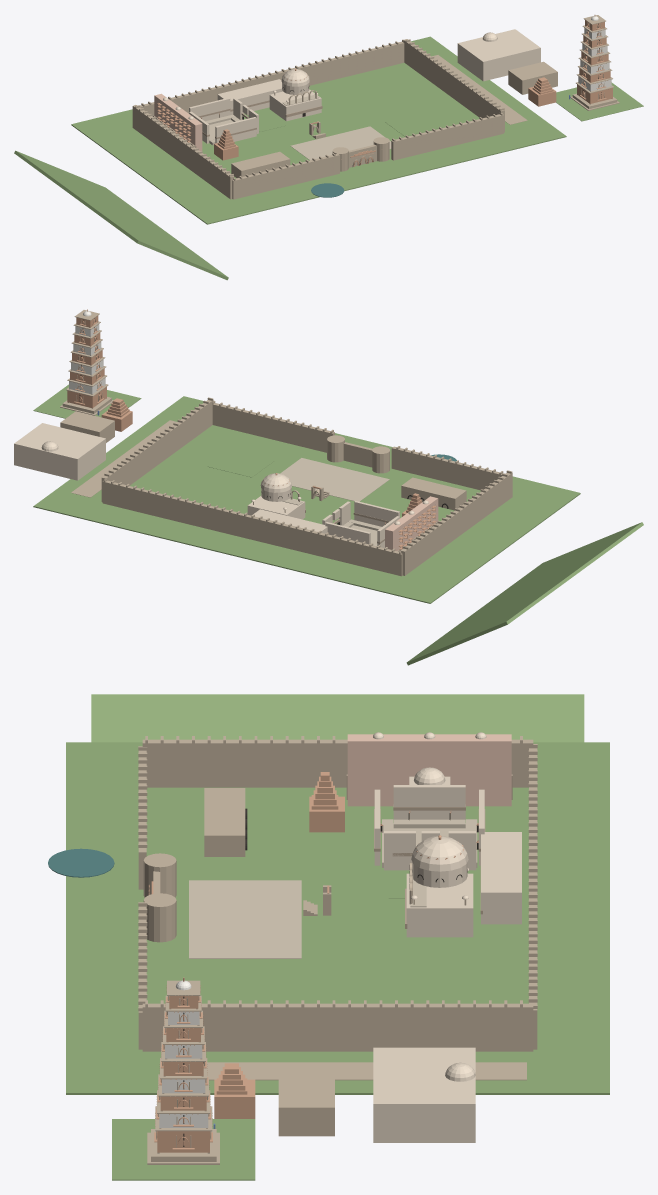
File: kumbha-palace.glb
3 views of the same model, one above another, from view 1: azimuth 30°, elevation 25°; view 2: azimuth 150°, elevation 25°; view 3: azimuth 270°, elevation 25° (orthographic). The views are drawn at different scales.
Visible parts, largest first — view 1: Ground, WestSlope, WallNorth, FatehPrakash, WallWest, WallSouthEast, WallEast, WallSouthWest, OpenCourt, StambhPad, FacadeWall, Diwan (+10 smaller); view 2: Ground, WallNorth, WestSlope, FatehPrakash, WallWest, WallEast, WallSouthEast, OpenCourt, WallSouthWest, FacadeWall, StableBlock, RoyalGarden (+8 smaller); view 3: Ground, WestSlope, WallEast, WallWest, FacadeWall, FatehPrakash, OpenCourt, StambhPad, Diwan, NauLakhaBandar, PavilionBase, EastRoad (+15 smaller).
Boxes of the visible parts, x1,y1,x2,y2 form: Ground: (71, 36, 566, 224); WestSlope: (14, 150, 228, 280); WallNorth: (140, 41, 404, 116); FatehPrakash: (457, 29, 540, 81); WallWest: (132, 105, 234, 199); WallSouthEast: (391, 114, 503, 160); WallEast: (403, 39, 504, 132); WallSouthWest: (232, 153, 339, 199); OpenCourt: (290, 126, 391, 160); StambhPad: (556, 82, 643, 121); FacadeWall: (154, 93, 202, 151); Diwan: (217, 79, 282, 114); Ground: (33, 396, 580, 603); WallNorth: (102, 480, 402, 576); WestSlope: (406, 522, 643, 665); FatehPrakash: (14, 423, 105, 480); WallWest: (400, 473, 512, 575); WallEast: (101, 400, 213, 502); WallSouthEast: (212, 403, 334, 452); OpenCourt: (280, 458, 389, 501); WallSouthWest: (391, 446, 504, 490); FacadeWall: (385, 496, 438, 550); StableBlock: (401, 477, 466, 510); RoyalGarden: (208, 450, 274, 477); Ground: (66, 742, 609, 1094); WestSlope: (91, 694, 584, 742); WallEast: (142, 1003, 533, 1051); WallWest: (142, 739, 533, 787); FacadeWall: (347, 734, 511, 806); FatehPrakash: (373, 1047, 475, 1142); OpenCourt: (189, 880, 301, 958); StambhPad: (112, 1119, 255, 1180); Diwan: (481, 832, 521, 924); NauLakhaBandar: (278, 1073, 334, 1136); PavilionBase: (406, 873, 473, 937); EastRoad: (207, 1062, 526, 1080).
Size of the model in its own units: 231 by 66.18 by 110.
